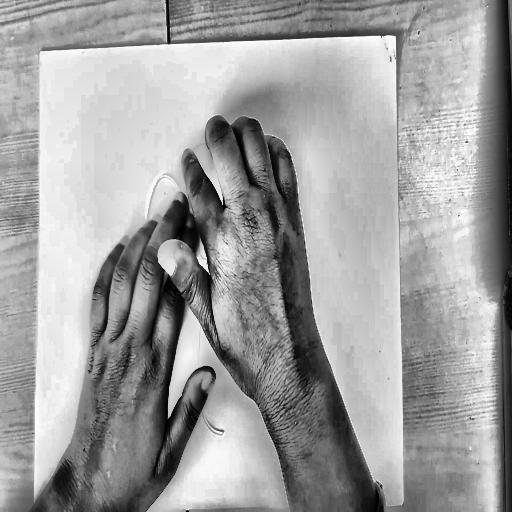bottom_right: (399, 493, 409, 509)
flower: (143, 134, 280, 449)
top_left: (36, 46, 44, 59)
top_right: (391, 30, 400, 43)
